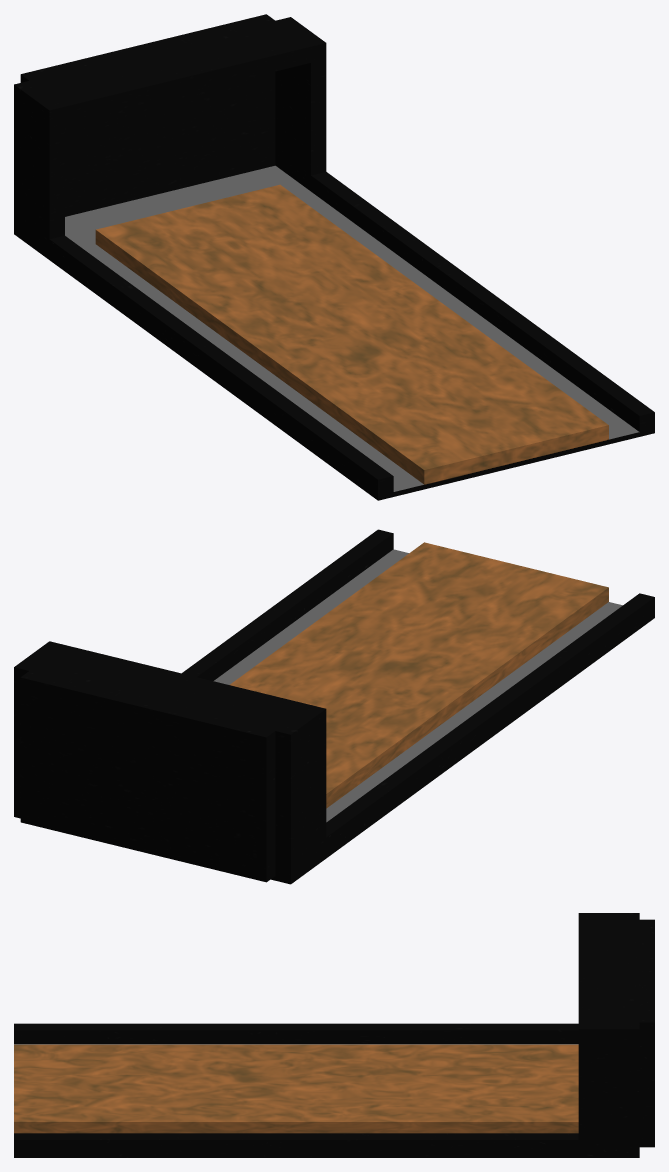
Rendered from Lane.fbx.
3 views of the same model, one above another, from view 1: azimuth 30°, elevation 25°; view 2: azimuth 150°, elevation 25°; view 3: azimuth 270°, elevation 25° (orthographic). The views are drawn at different scales.
Visible parts, largest first — view 1: Cube; view 2: Cube; view 3: Cube.
Part boxes in pixels (<box>): Cube: <box>14,14,654,500</box>; Cube: <box>14,529,654,884</box>; Cube: <box>14,913,654,1157</box>.
Bounding box in the file's own units: 1800 × 930 × 4200.
